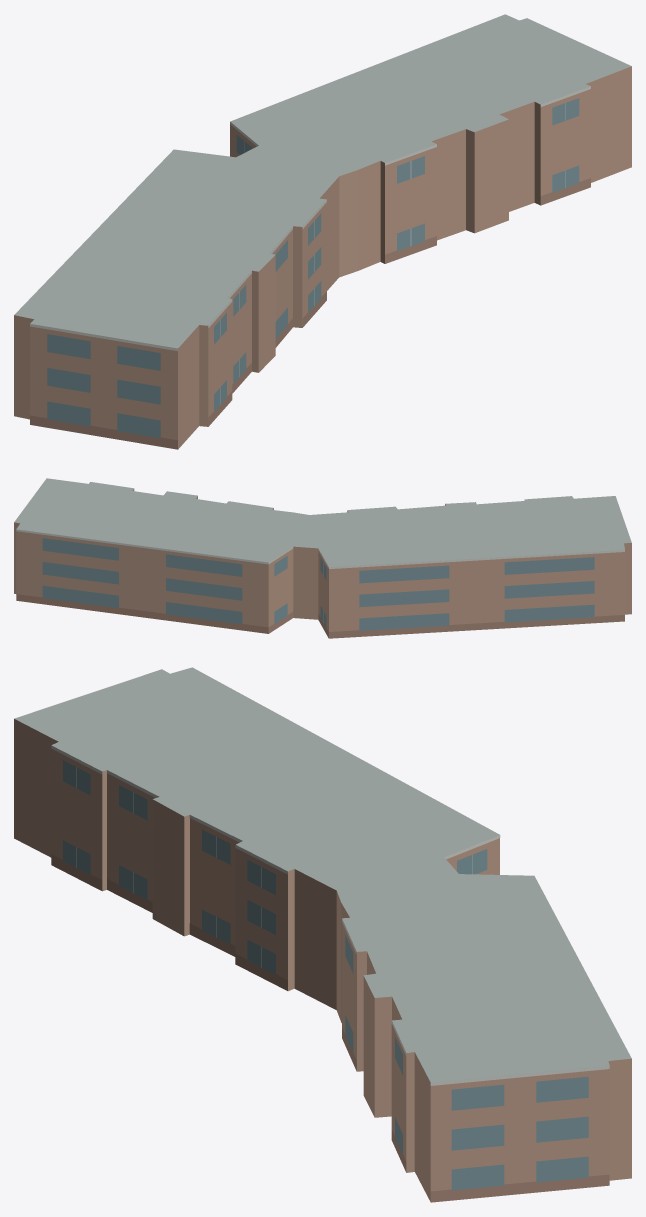
Rendered from survey-upis-32492890.glb.
3 renders of one model, top to bottom at view 1: azimuth 30°, elevation 25°; view 2: azimuth 150°, elevation 25°; view 3: azimuth 270°, elevation 25°, orthographic. The views are drawn at different scales.
Parts seen in each view (by area): view 1: survey-upis-32492890.tmp; view 2: survey-upis-32492890.tmp; view 3: survey-upis-32492890.tmp.
Part boxes in pixels (box(x1,y1,x2,y2)): survey-upis-32492890.tmp: box(14, 14, 631, 449); survey-upis-32492890.tmp: box(14, 478, 631, 638); survey-upis-32492890.tmp: box(14, 667, 631, 1202).
Size of the model in its own units: 68.04 by 9.15 by 42.77.
